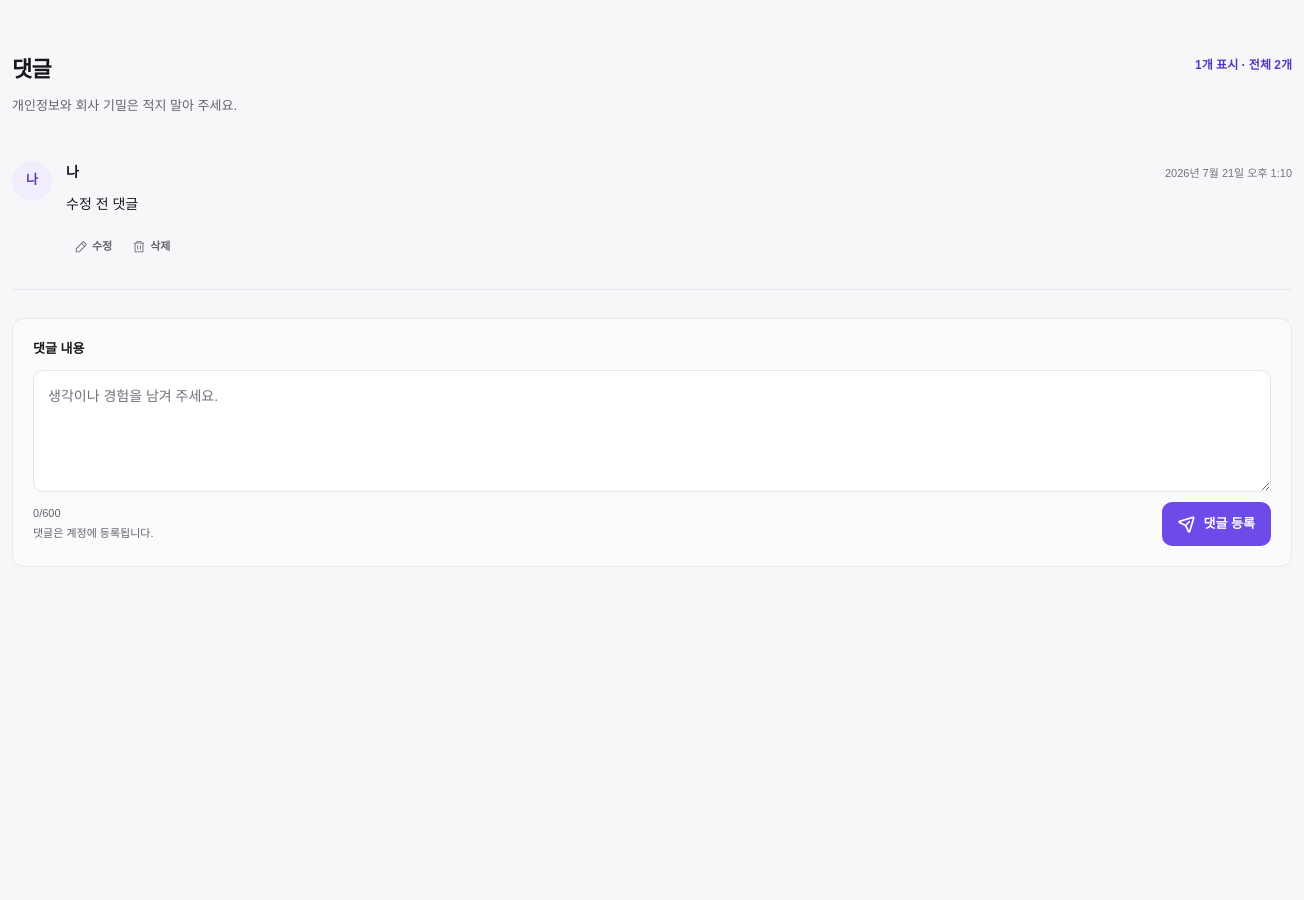
Test: ServerCommentList › keeps a failed edit open with the typed content
expect the text "수정 전 댓글" is shown: met, box [66,196,138,212]
Click the button with aria-label "수정 전 댓글 댓글 수정" at (93, 247), box [66,225,120,269]
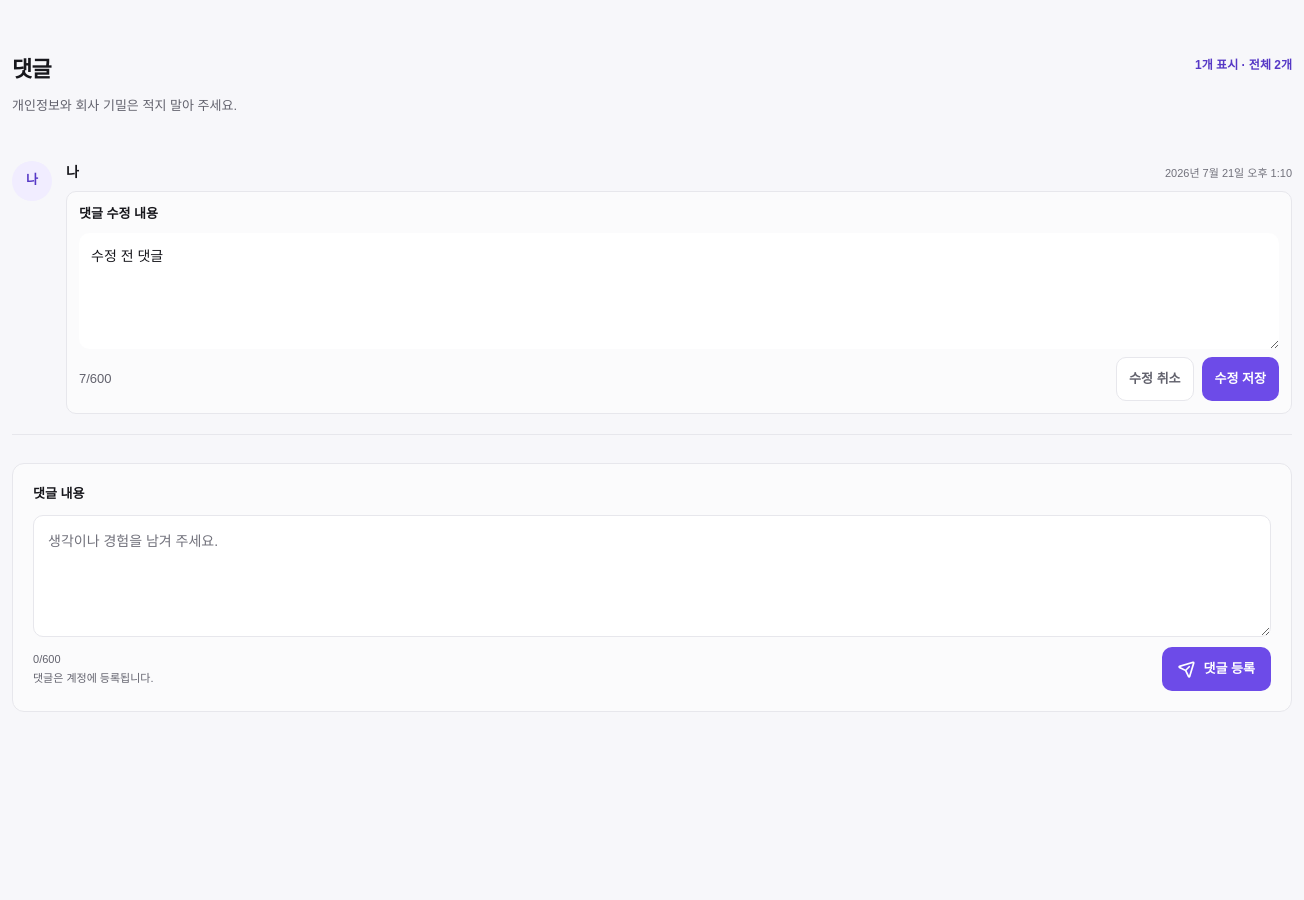
Replace the text in the text box labelled "댓글 수정 내용" with "실패해도 남아야 하는 댓글" at (679, 291), box [79,233,1279,349]
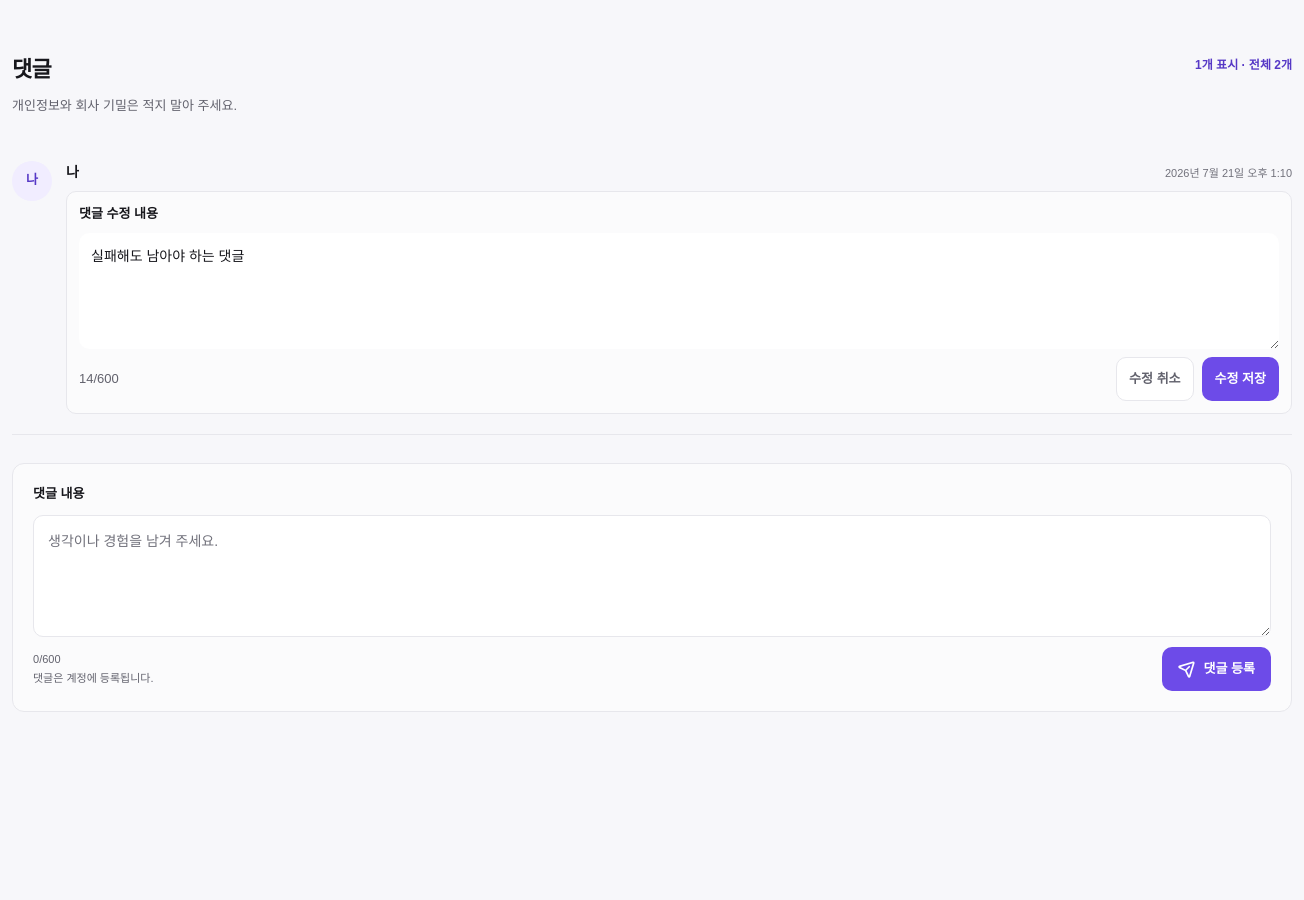
Click the button "수정 저장" at (1240, 379), box [1202,357,1279,401]
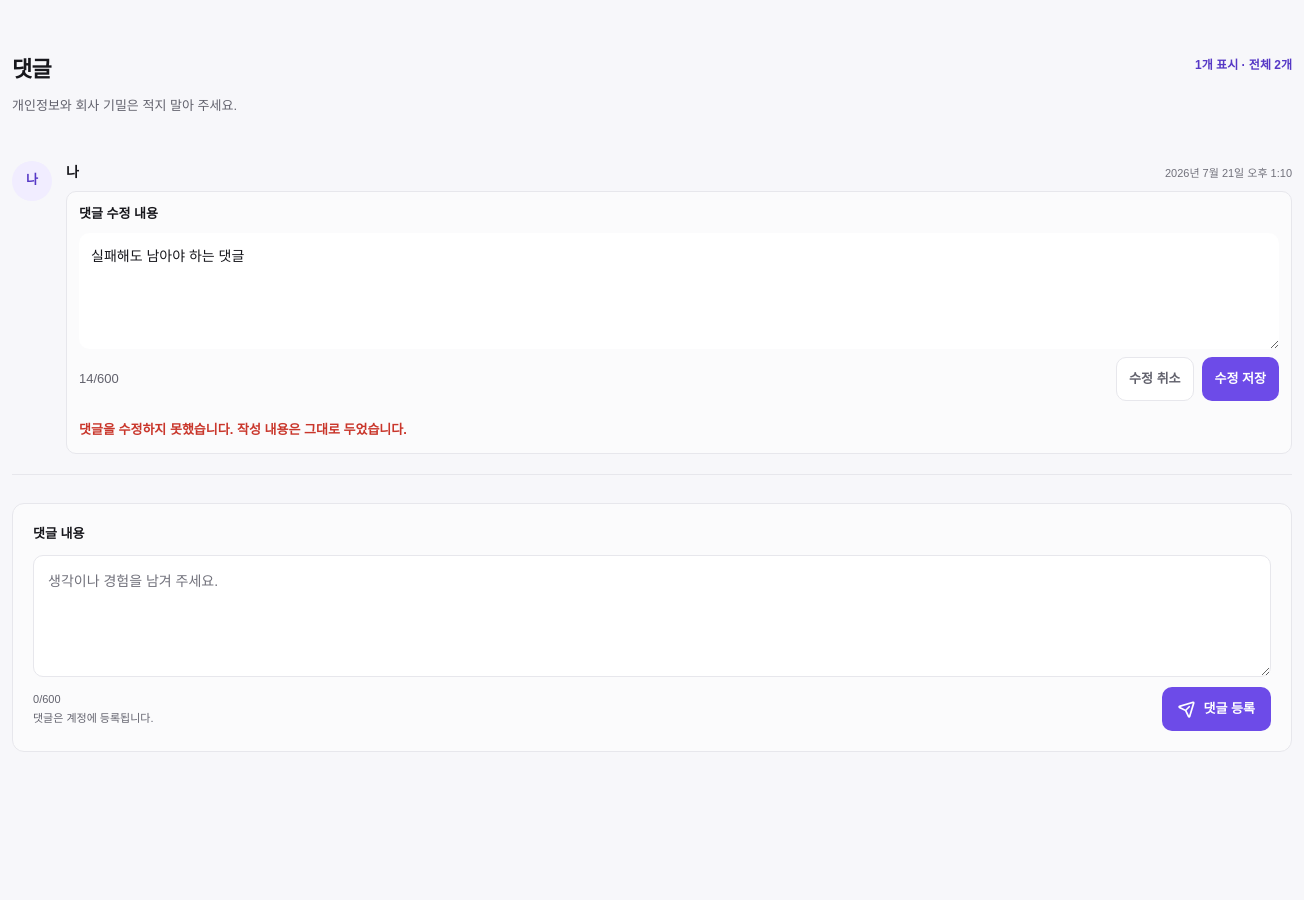
expect the message reads "댓글을 수정하지 못했습니다. 작성 내용은 그대로 두었습니다.": met, box [79,422,407,437]
